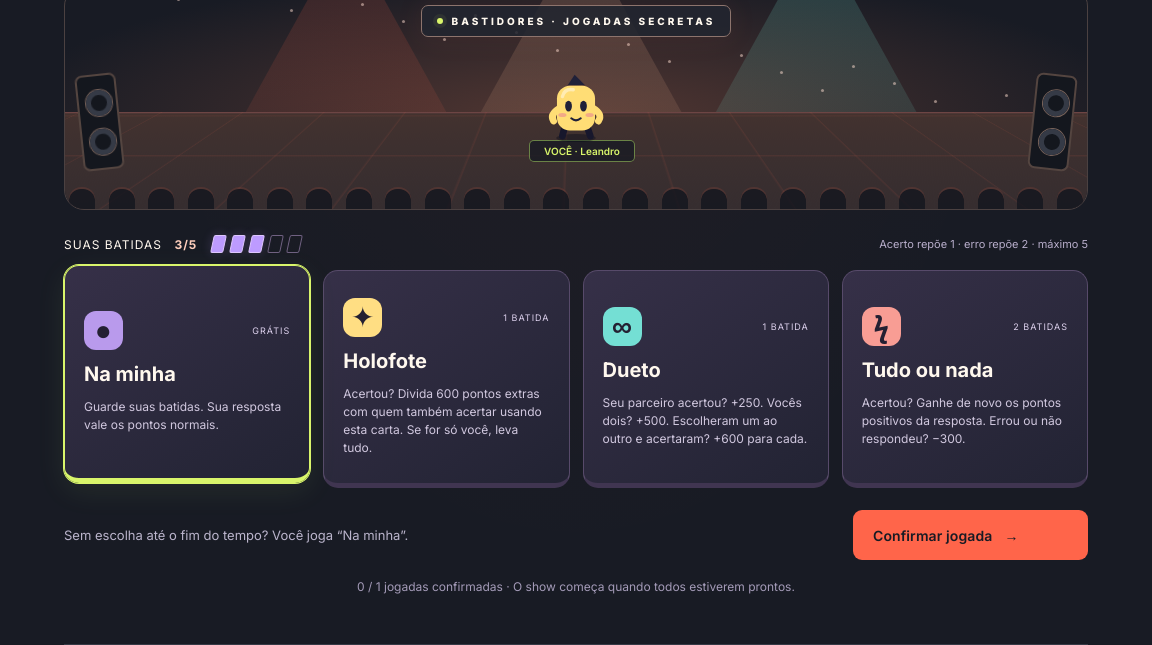
PC player flows › translates backstage controls in place without resetting a chosen card
This screenshot has width=1152, height=645.
(page scrolled)
Click the button that starts with "1 BATIDA".
click(446, 379)  # box [323, 270, 570, 488]
(page scrolled)
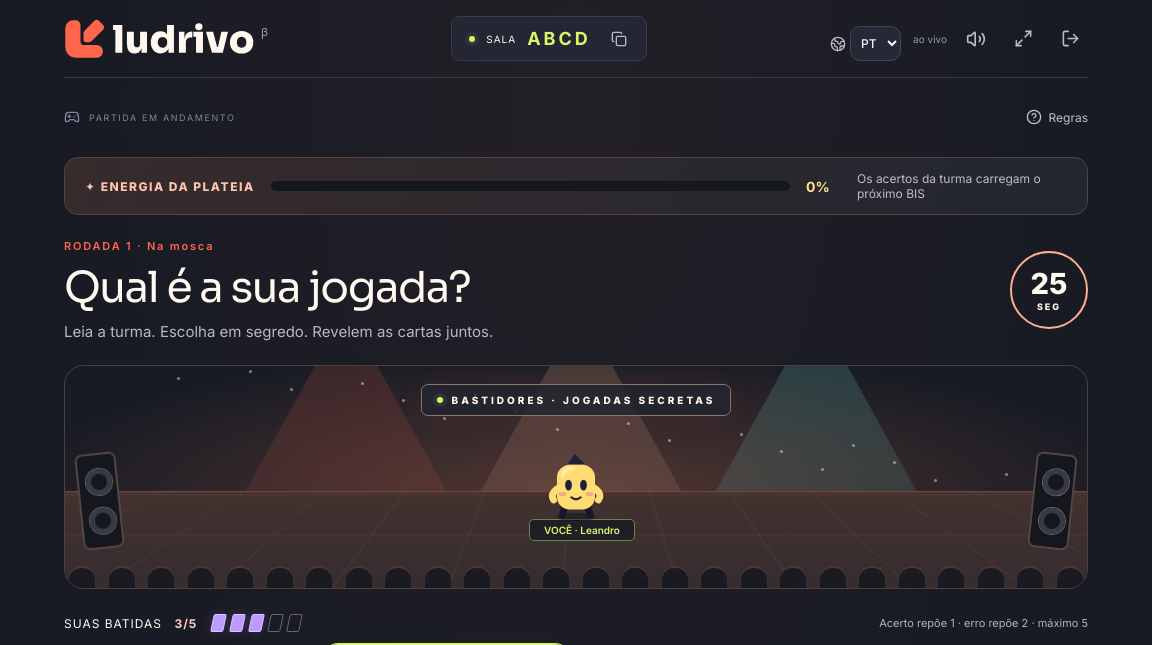
Select "EN" in the dropdown with id "interface-language" at (876, 44), box [850, 26, 901, 61]
(page scrolled)
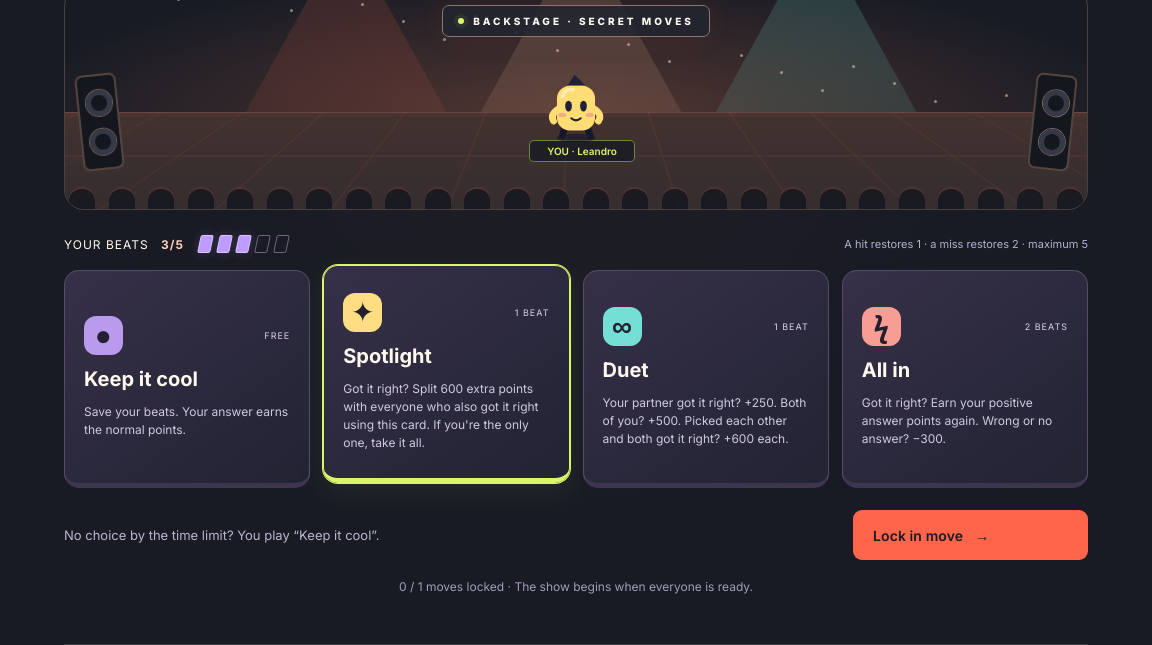
Expected: the button "Lock in move →" is shown, [853, 510, 1088, 560]
Now the button with class "selected" shows "Spotlight", box [323, 265, 570, 483]
